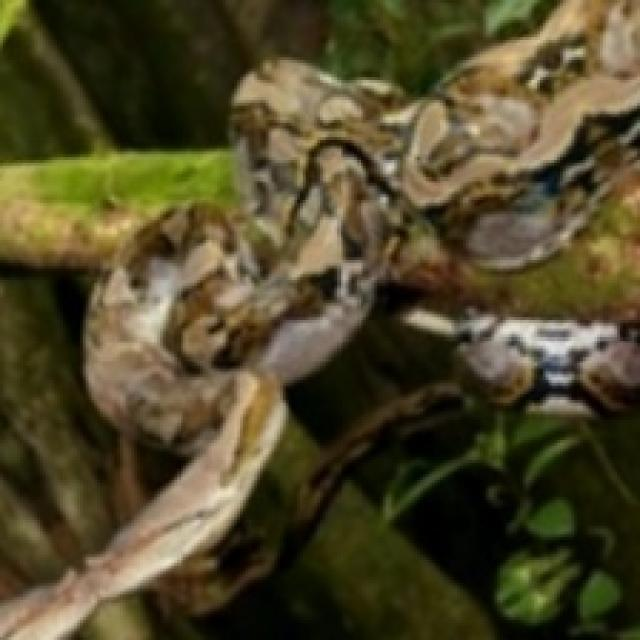reticulated python: (3, 0, 640, 640), (414, 309, 640, 417)
